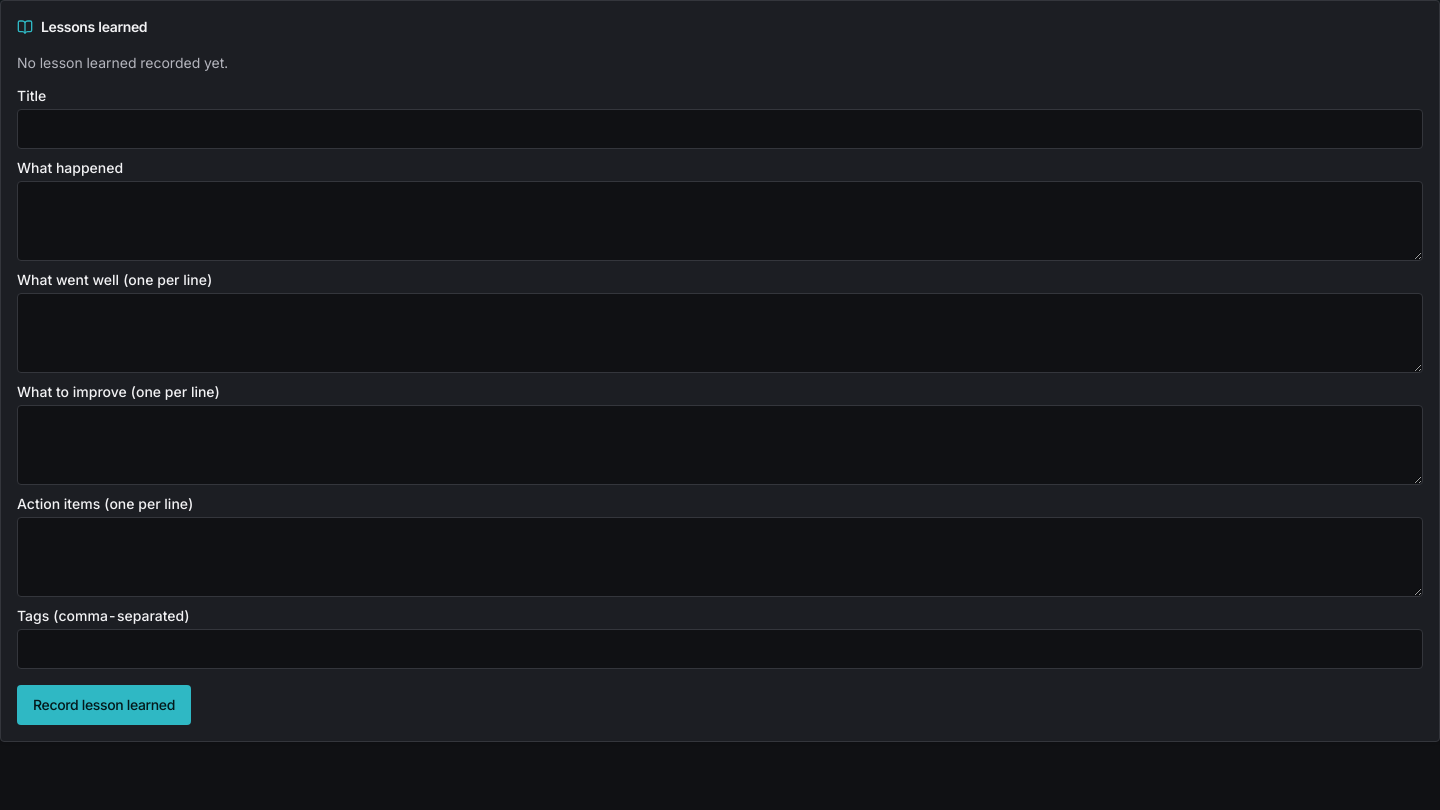
Scenario: LessonsLearnedPanel (ADR-0011 — gated on CLOSED incident) › submits a new lesson for a CLOSED incident and prepends it to the list
Expected: the text "No lesson learned recorded yet." is shown, left=17, top=54, right=228, bottom=71
Type "Payments outage retro" into the field labelled "Title".
click(720, 129); type("Payments outage retro")  # box left=17, top=109, right=1423, bottom=149
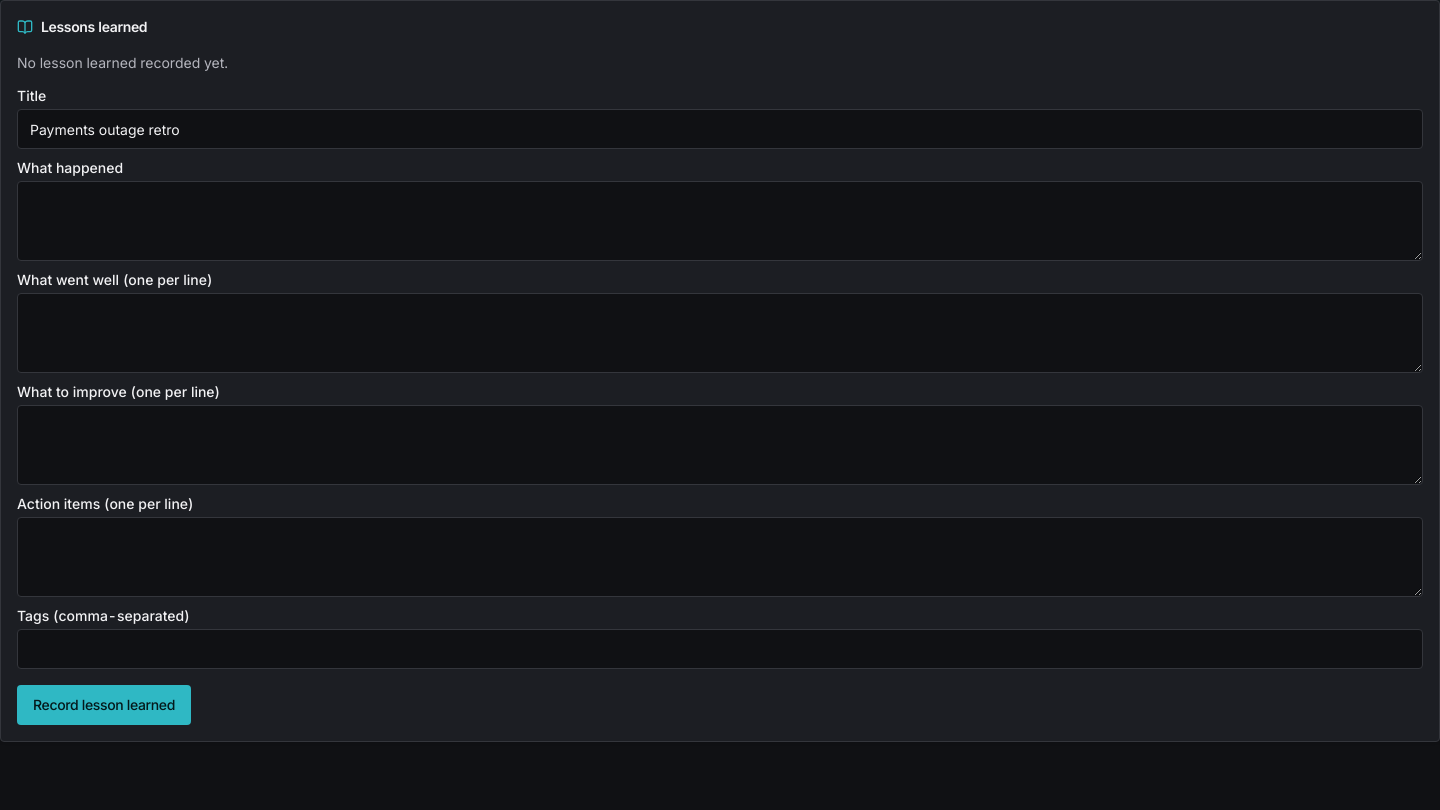
Type "A bad deploy caused 500s for 12 minutes." into the text box labelled "What happened".
click(720, 221); type("A bad deploy caused 500s for 12 minutes.")  # box left=17, top=181, right=1423, bottom=261
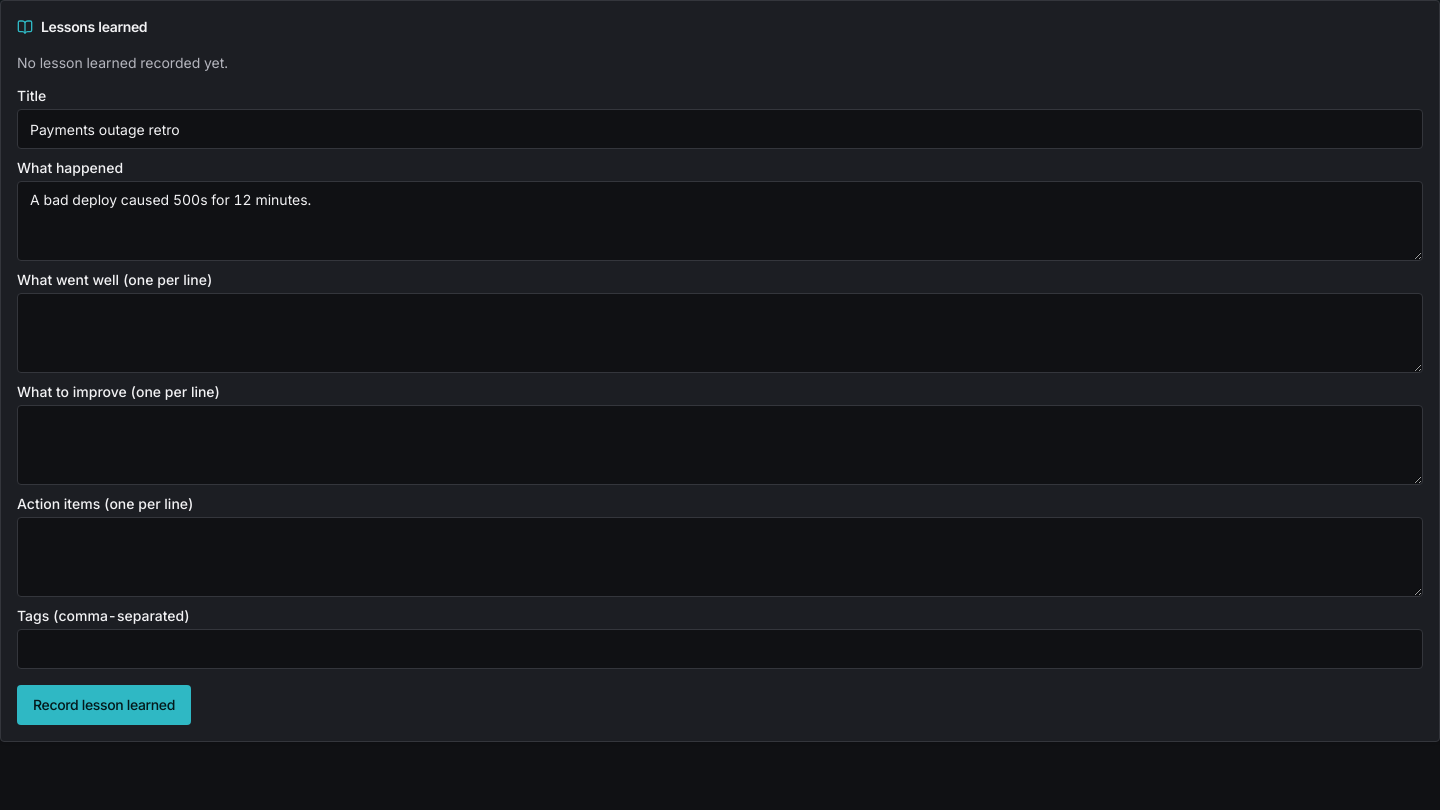
Click the button "Record lesson learned".
click(104, 705)  # box left=17, top=685, right=191, bottom=725
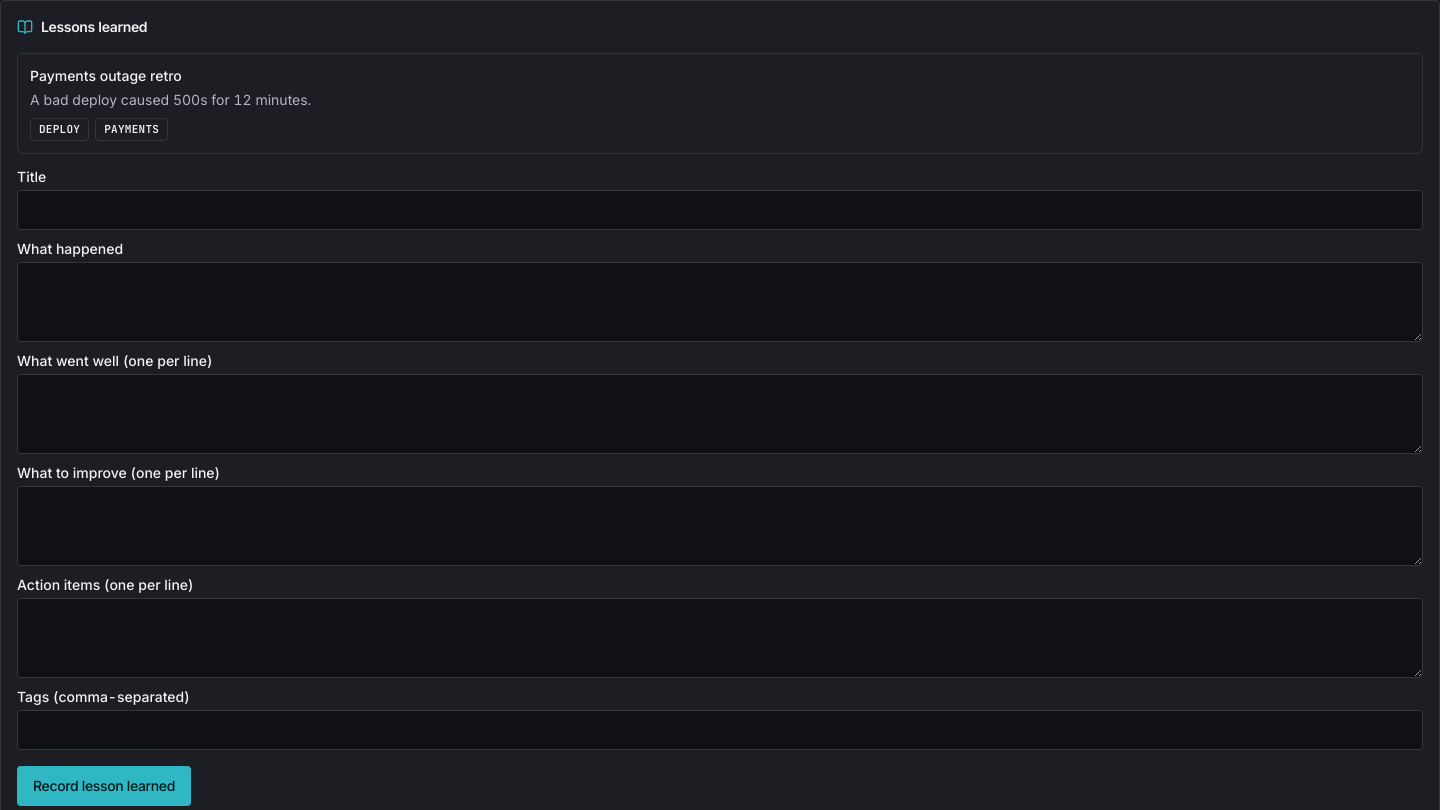
Expected: the text "Payments outage retro" is shown, left=30, top=67, right=182, bottom=84
